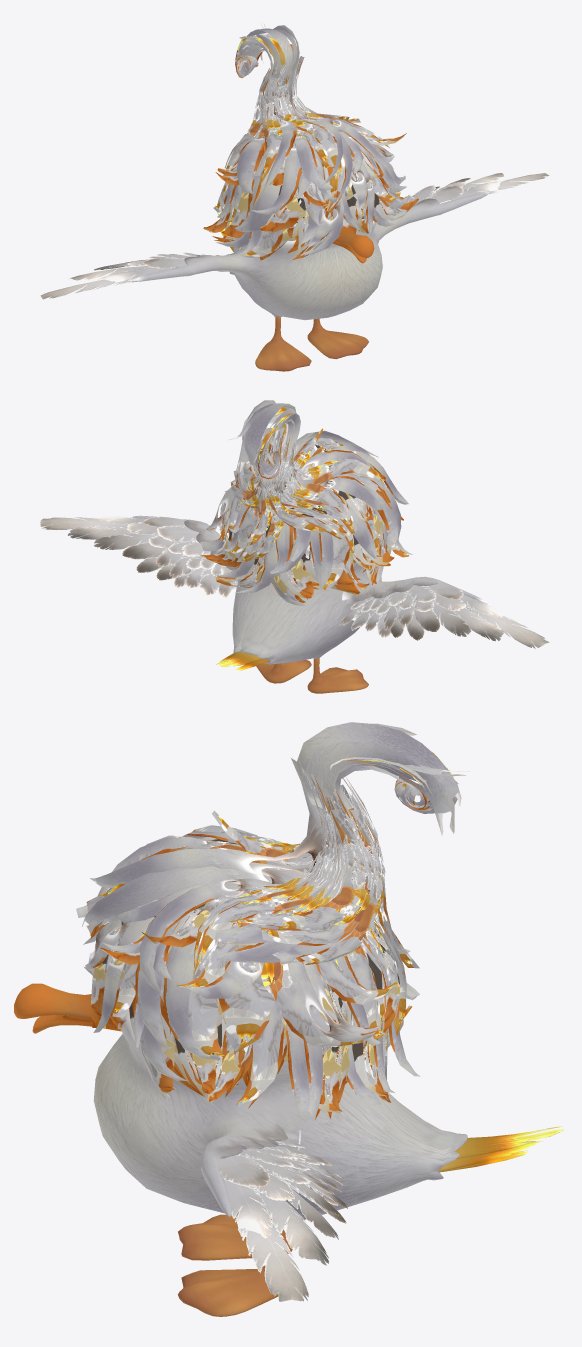
File: chirpi.glb
3 renders of one model, top to bottom at view 1: azimuth 30°, elevation 25°; view 2: azimuth 150°, elevation 25°; view 3: azimuth 270°, elevation 25°, orthographic. The views are drawn at different scales.
Visible parts, largest first — view 1: M_Parmon_10181_Body_LOD1_-1212365283.obj; view 2: M_Parmon_10181_Body_LOD1_-1212365283.obj; view 3: M_Parmon_10181_Body_LOD1_-1212365283.obj.
Boxes of the visible parts, left/top/right/bottom form: M_Parmon_10181_Body_LOD1_-1212365283.obj: left=40, top=20, right=549, bottom=371; M_Parmon_10181_Body_LOD1_-1212365283.obj: left=40, top=400, right=549, bottom=693; M_Parmon_10181_Body_LOD1_-1212365283.obj: left=14, top=722, right=564, bottom=1316.
Bounding box in the file's own units: 1.6 × 0.82 × 0.7591.
2 materials, 2 textured.
